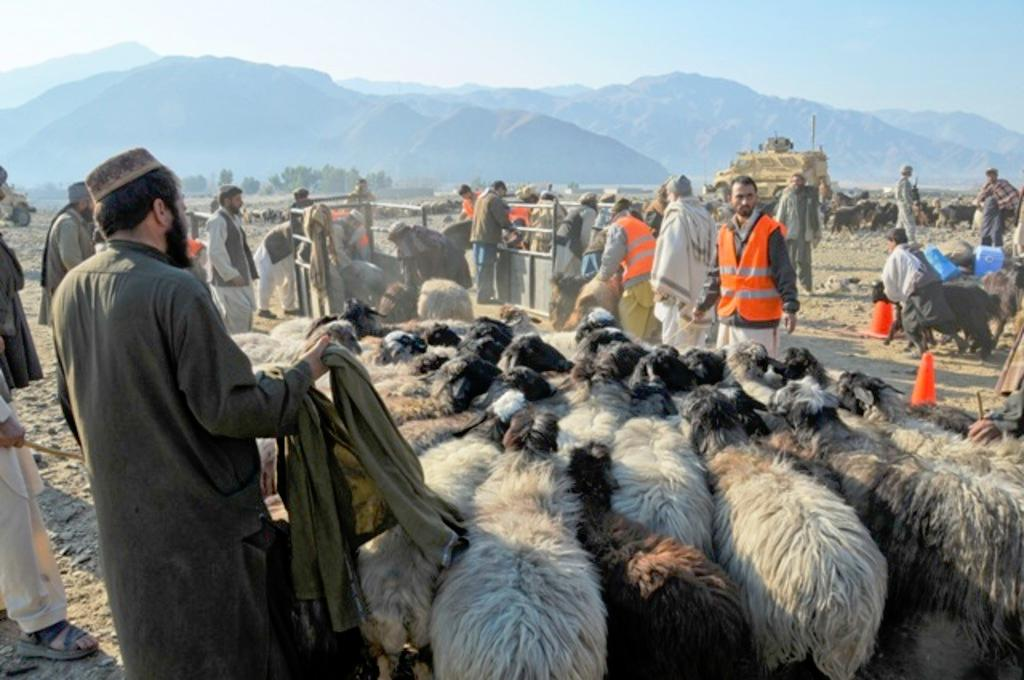Sheep: (781, 390, 1018, 680), (662, 385, 893, 678), (560, 440, 757, 666), (448, 399, 607, 679), (839, 370, 1024, 507), (394, 329, 581, 426), (615, 382, 716, 551)
